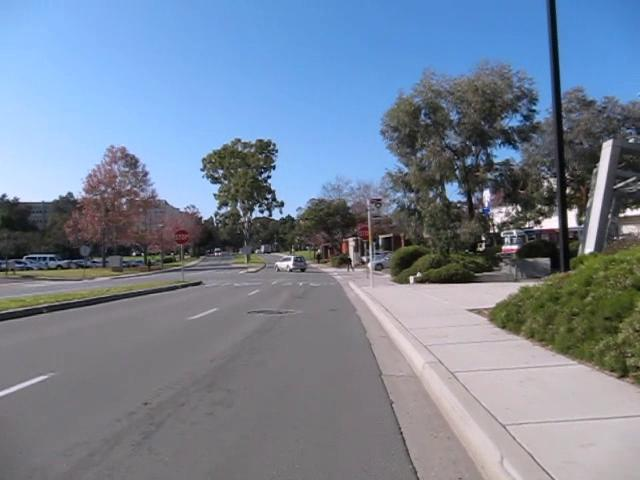stop: (173, 228, 190, 245)
